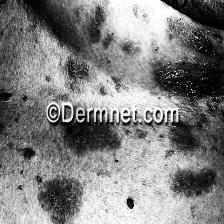Benign Marking or Mole: (160, 17, 221, 97), (34, 174, 84, 224), (65, 121, 122, 153), (169, 166, 214, 198)
